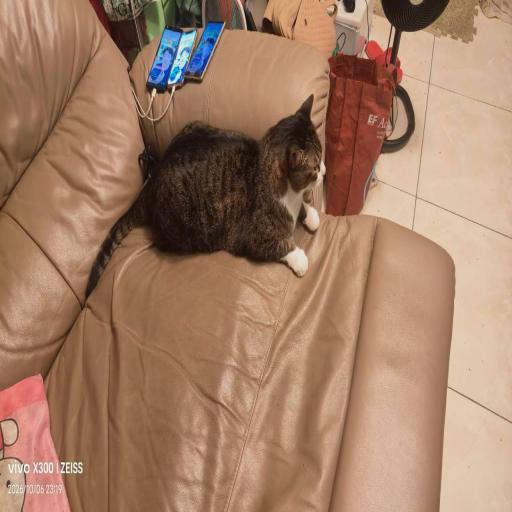cat: (117, 111, 328, 267)
